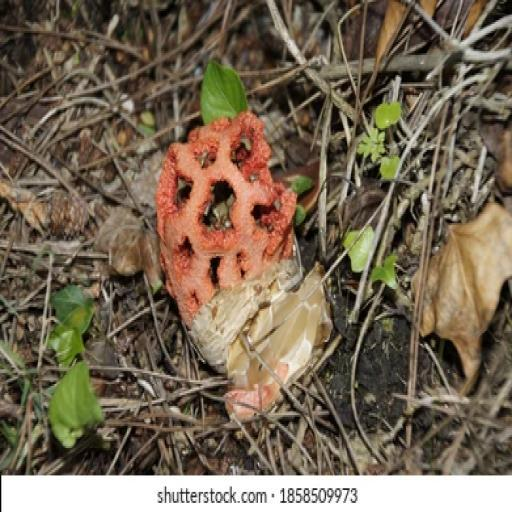mushroom: (118, 99, 364, 436)
